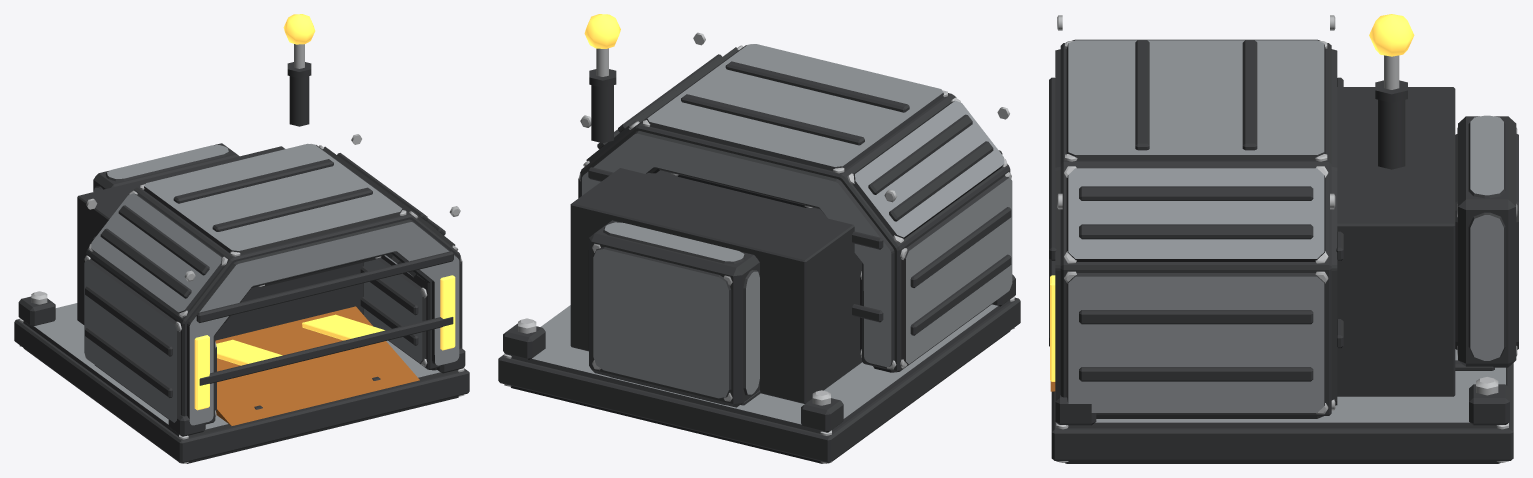
The model's file is R4X_GroundDroneDeployer.fbx.
3 renders of one model, left to right at view 1: azimuth 30°, elevation 25°; view 2: azimuth 150°, elevation 25°; view 3: azimuth 270°, elevation 25°, orthographic. The views are drawn at different scales.
Visible parts, largest first — view 1: R4X_GroundDroneDeployer_Body; view 2: R4X_GroundDroneDeployer_Body; view 3: R4X_GroundDroneDeployer_Body.
Boxes of the visible parts, left/top/right/bottom form: R4X_GroundDroneDeployer_Body: left=14, top=14, right=469, bottom=463; R4X_GroundDroneDeployer_Body: left=498, top=14, right=1020, bottom=463; R4X_GroundDroneDeployer_Body: left=1049, top=14, right=1518, bottom=463.
Size of the model in its own units: 0.514 by 0.51 by 0.517.
